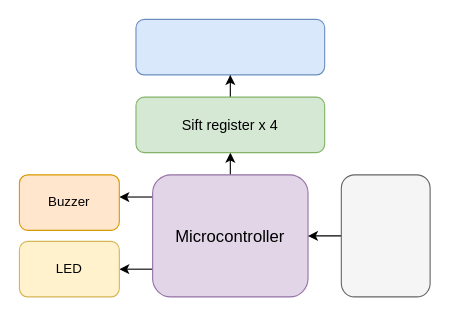
Some shapes in this 450 by 316 pixel diagram are drawn without their labels. The centre of each missing label's shape, as x and y in pixels:
"Buttons x 2" goes at point (385, 235).
"Seven segment LED x 4" goes at point (230, 46).
